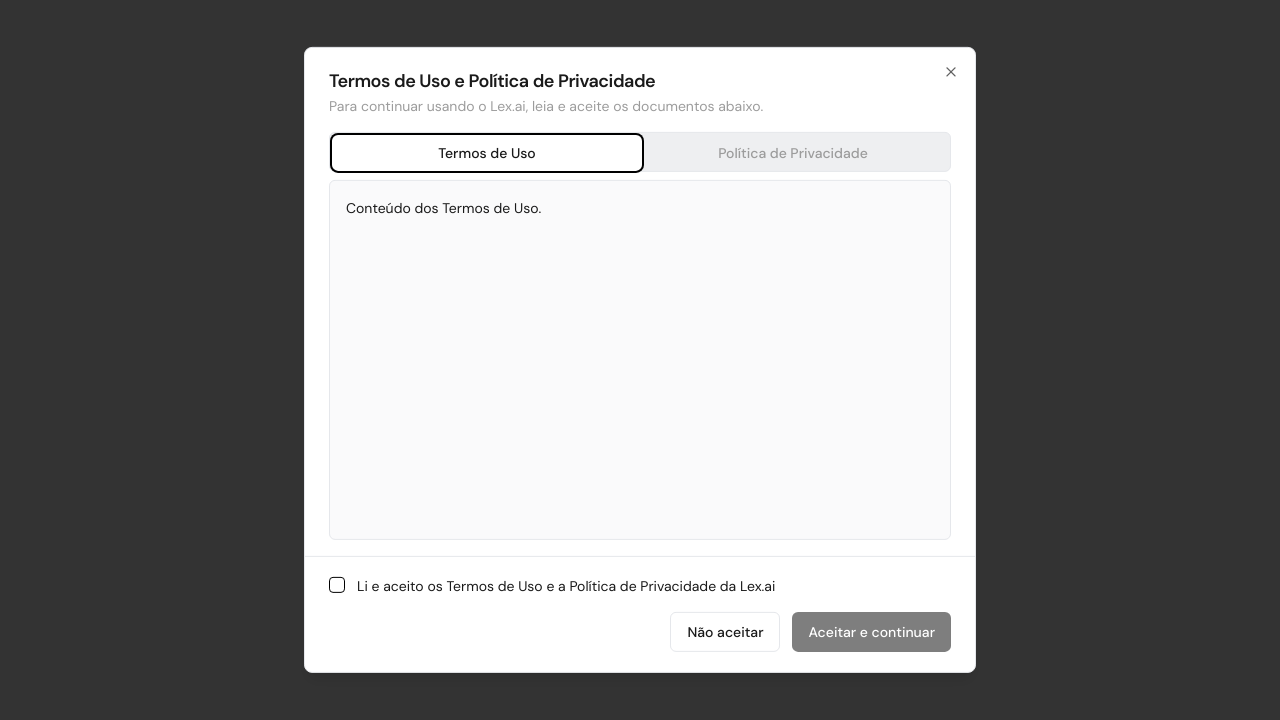
it: TermsAcceptanceModal › botão Aceitar está desabilitado até o checkbox ser marcado
The image size is (1280, 720).
Expected: the button "Aceitar e continuar" is disabled, [792,612,951,652]
Click the checkbox: (337, 585) [329,577,345,593]
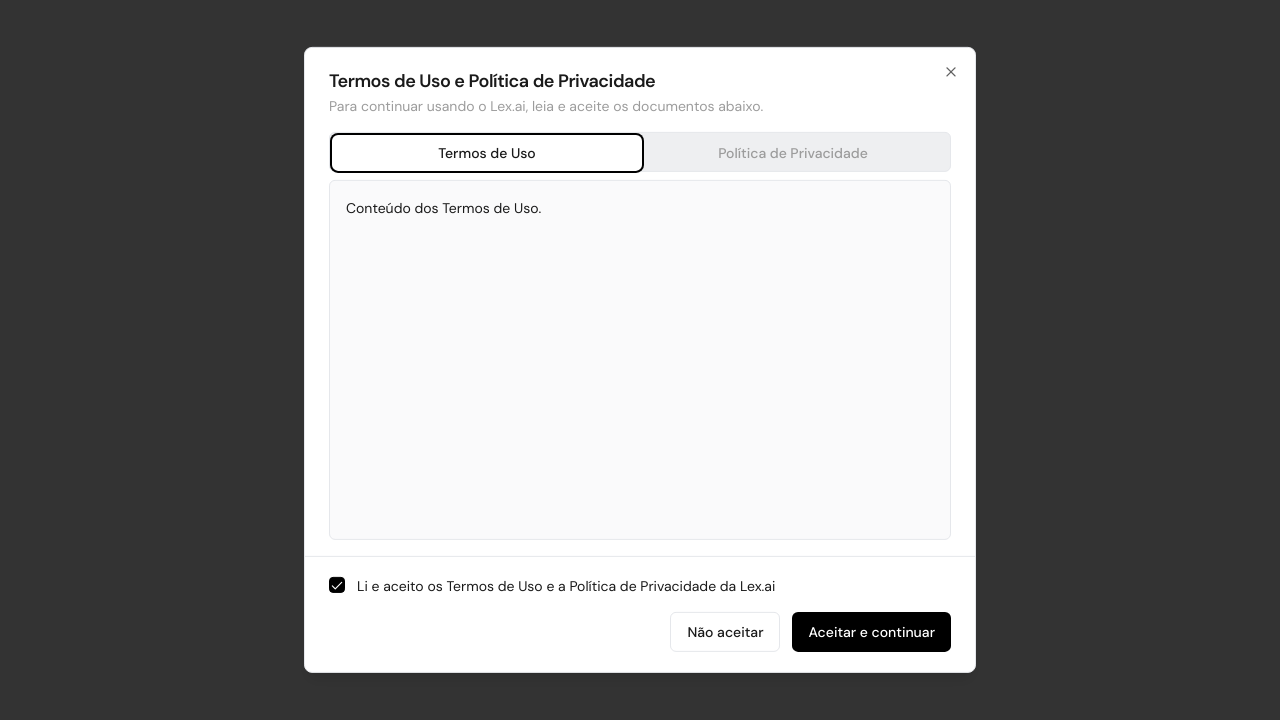
Expected: the button "Aceitar e continuar" is enabled, [792,612,951,652]
